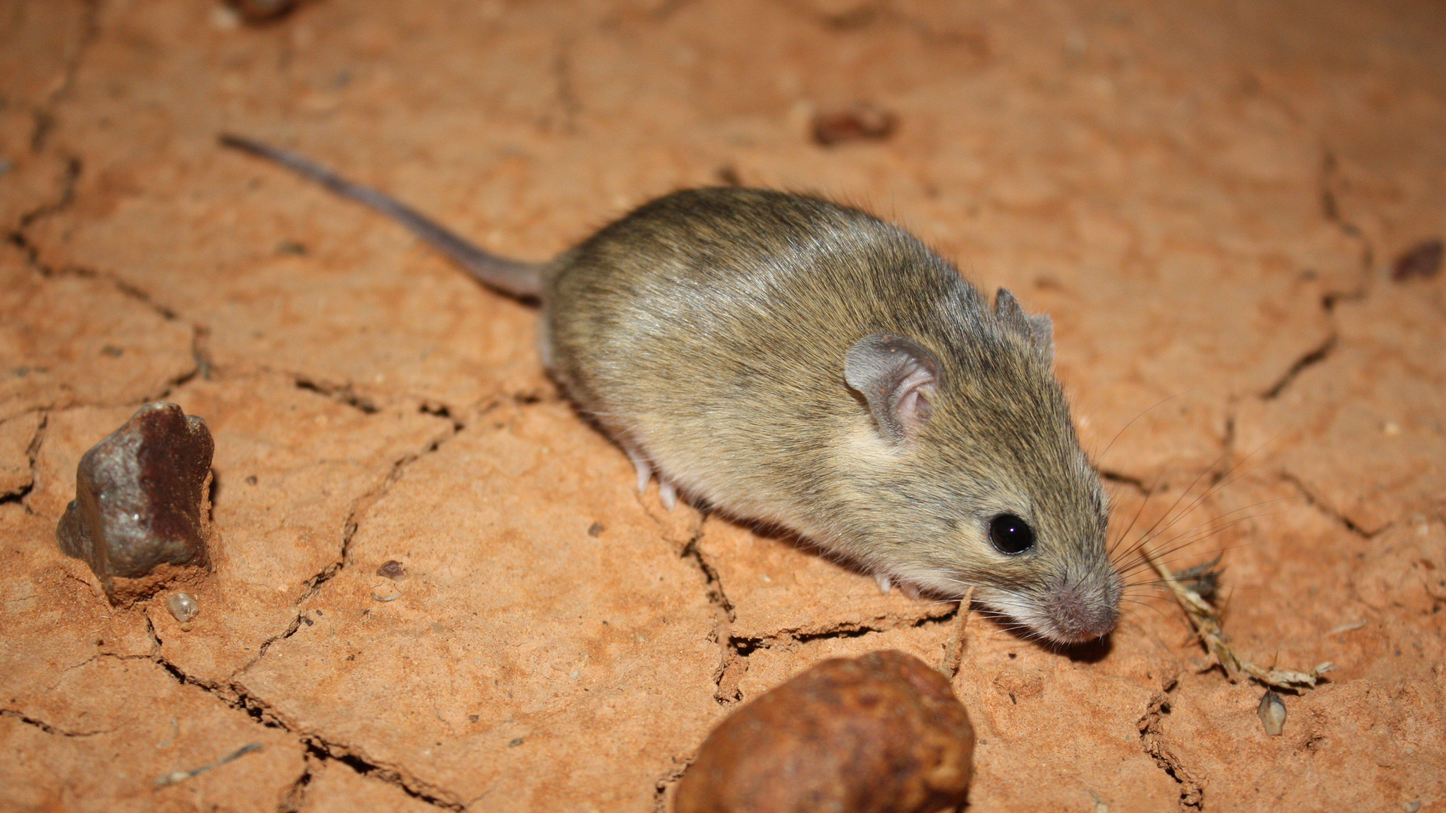rat: (211, 130, 1120, 645)
